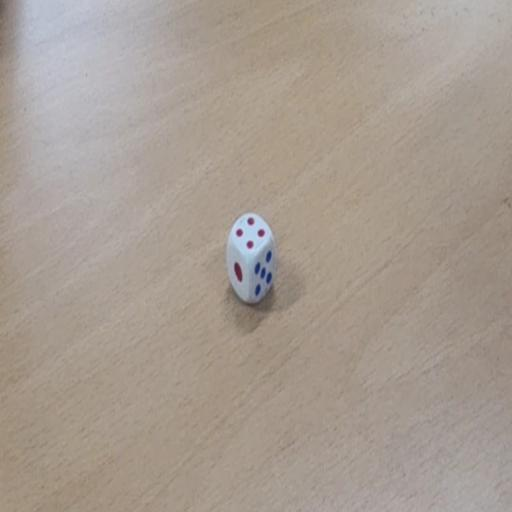dice_4: (227, 212, 276, 306)
